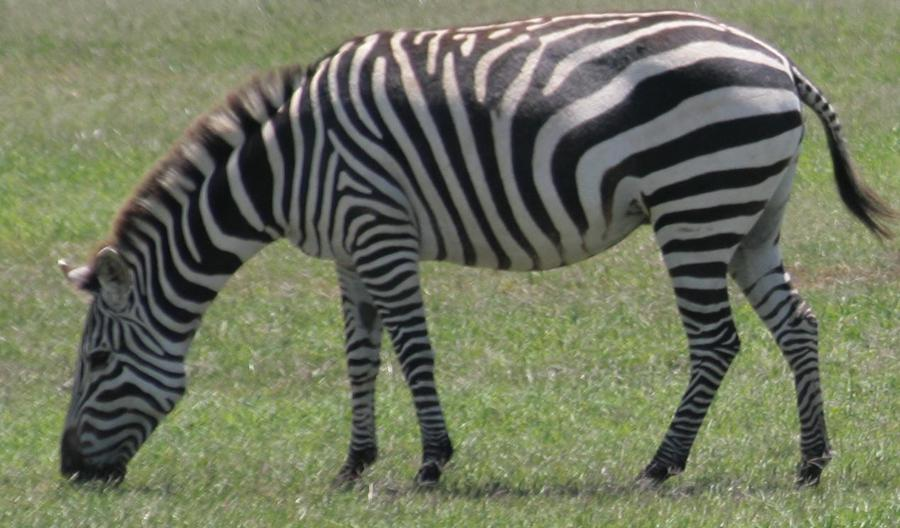zebra_plains: (245, 12, 823, 330)
